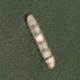ship: (0, 0, 22, 31)
